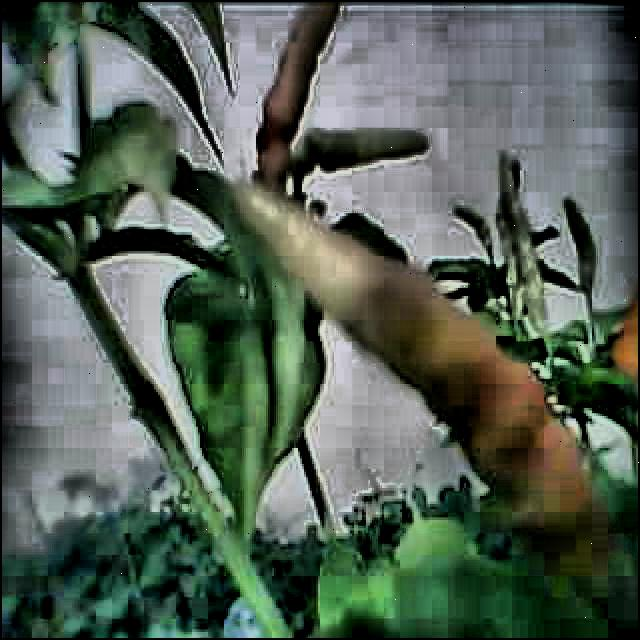Cabai: (380, 257, 586, 561), (496, 160, 588, 325), (268, 3, 349, 121), (303, 132, 435, 172)
